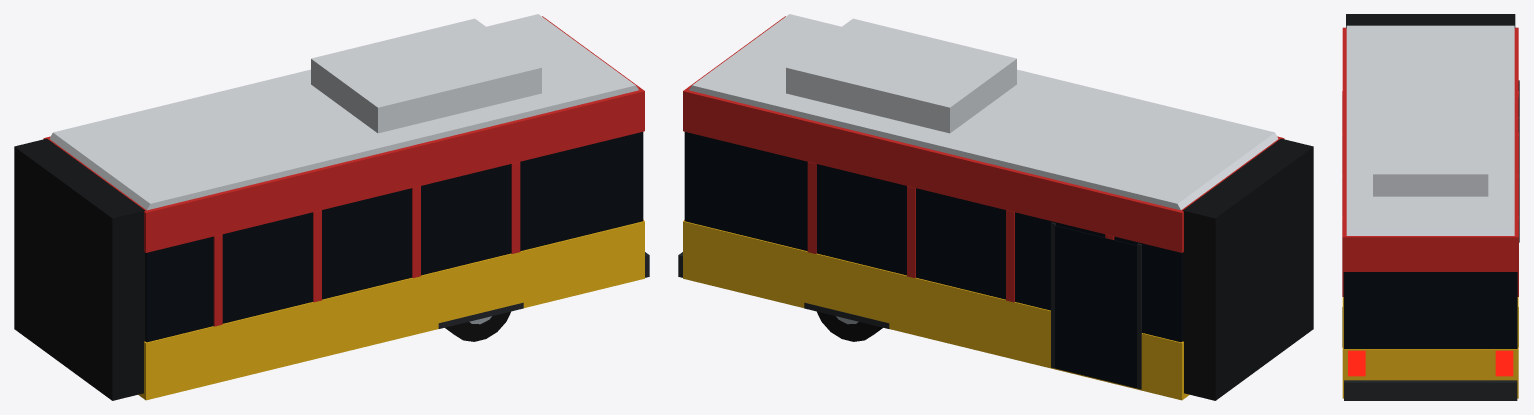
Rendered from bus60r-rapid.glb.
3 views of the same model, side by side, from view 1: azimuth 30°, elevation 25°; view 2: azimuth 150°, elevation 25°; view 3: azimuth 270°, elevation 25° (orthographic). The views are drawn at different scales.
Parts seen in each view (by area): view 1: bus60-rear; view 2: bus60-rear; view 3: bus60-rear.
Boxes of the visible parts, left/top/right/bottom form: bus60-rear: left=14, top=14, right=649, bottom=400; bus60-rear: left=678, top=14, right=1313, bottom=400; bus60-rear: left=1342, top=14, right=1519, bottom=400.
Bounding box in the file's own units: 7.84 × 3.37 × 2.61.
